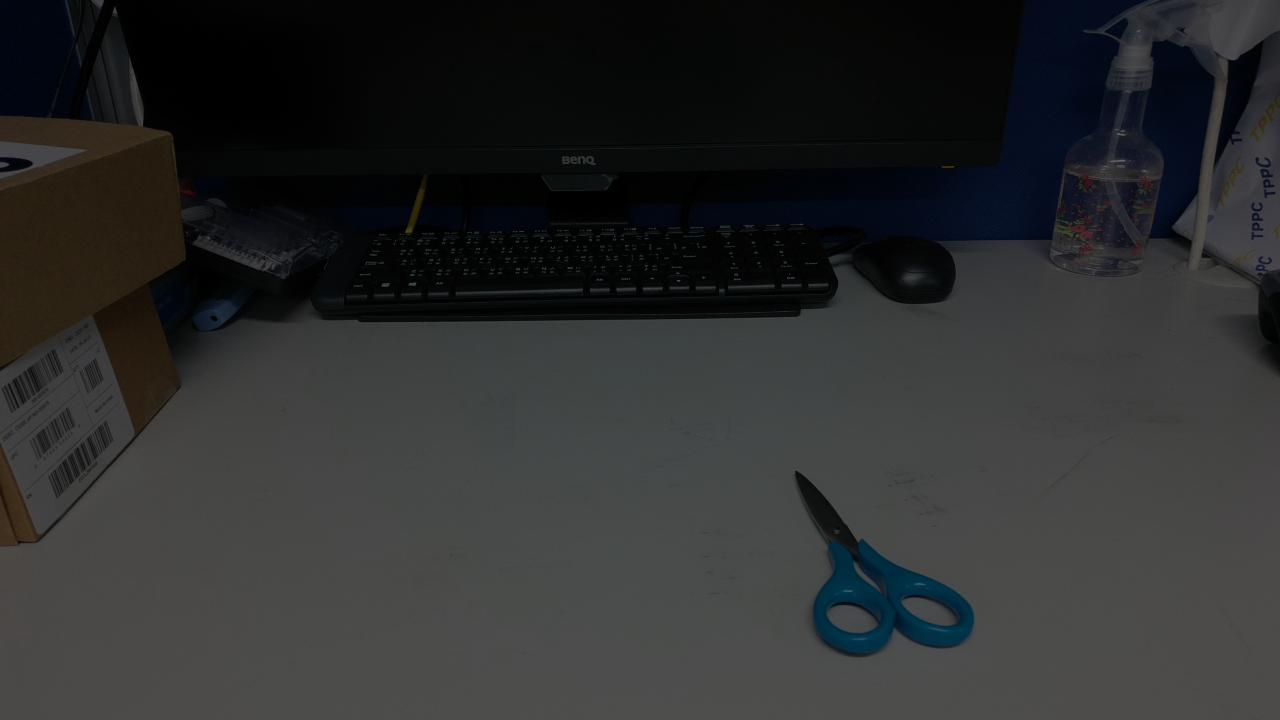long: (408, 431, 847, 536)
